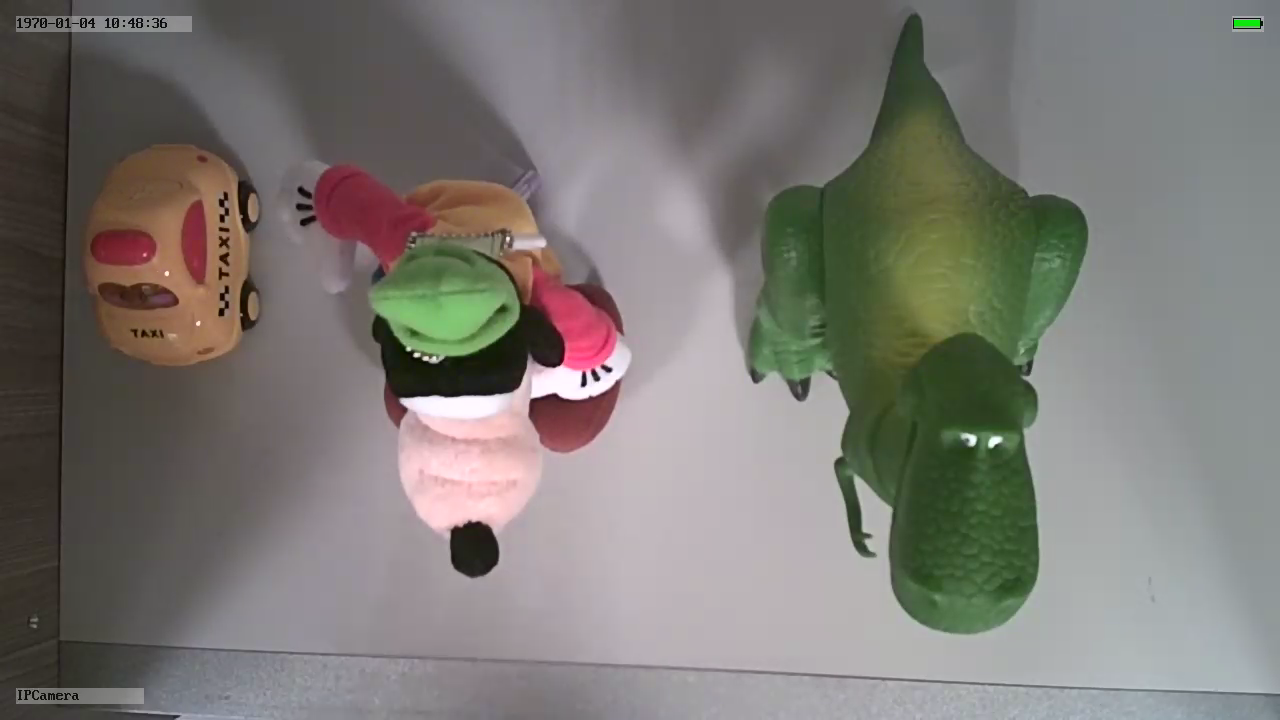goofy: (275, 152, 633, 578)
